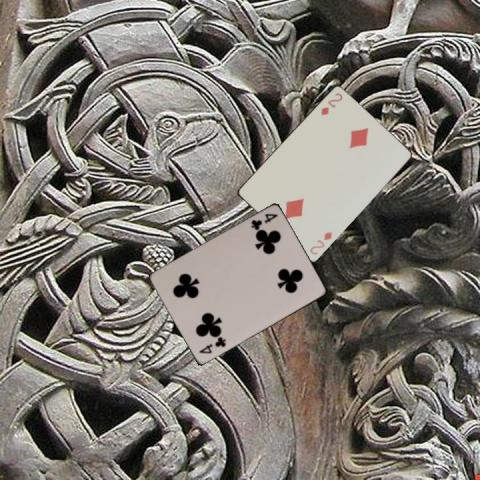2d: (307, 228, 333, 256), (318, 90, 344, 117)
4c: (196, 334, 227, 355), (248, 211, 279, 232)
